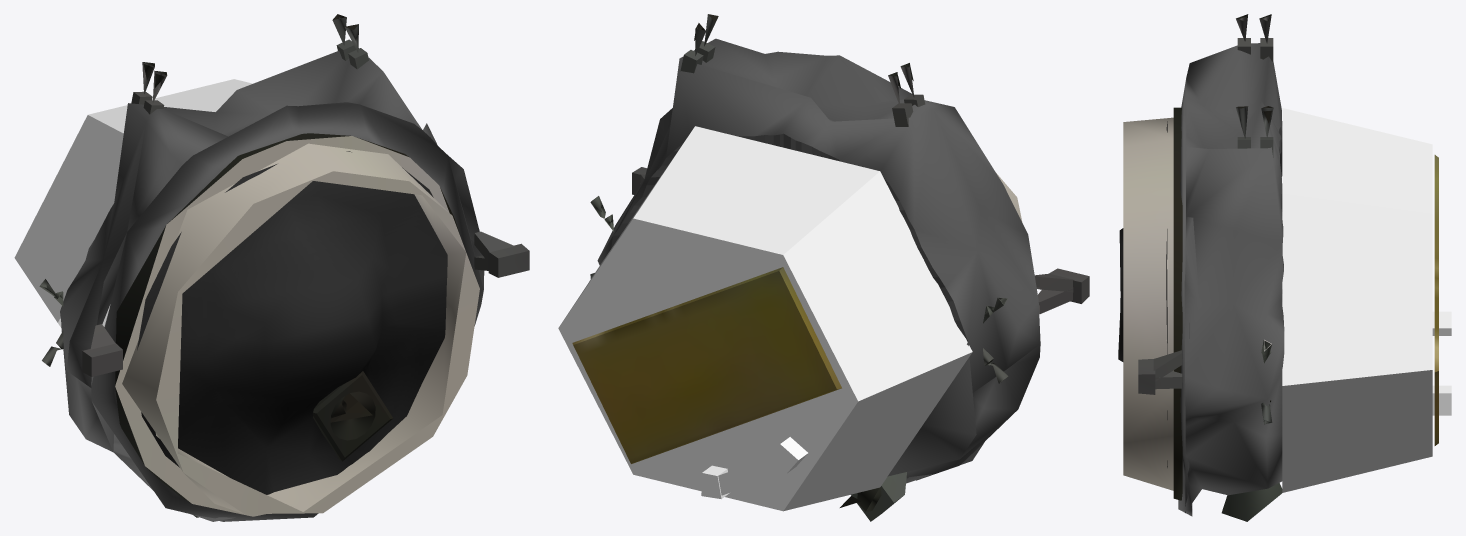
File: space-deep-impact.glb
The picture shows the model from 3 angles, left to right: view 1: azimuth 30°, elevation 25°; view 2: azimuth 150°, elevation 25°; view 3: azimuth 270°, elevation 25°; orthographic projection. The views are drawn at different scales.
Parts seen in each view (by area): view 1: foil_silver_I, tex_01_I, black_krinkle_I, aluminum_I; view 2: aluminum_I, black_krinkle_I, tex_01_I; view 3: aluminum_I, black_krinkle_I, tex_01_I, foil_silver_I.
Boxes of the visible parts, x1,y1,x2,y2 form: foil_silver_I: [137, 151, 447, 494]; tex_01_I: [39, 14, 529, 517]; black_krinkle_I: [60, 48, 484, 521]; aluminum_I: [14, 79, 252, 327]; aluminum_I: [558, 126, 972, 511]; black_krinkle_I: [597, 38, 1040, 483]; tex_01_I: [572, 14, 1089, 521]; aluminum_I: [1282, 108, 1451, 492]; black_krinkle_I: [1178, 43, 1284, 516]; tex_01_I: [1123, 14, 1438, 521]; foil_silver_I: [1118, 121, 1167, 467].
Bounding box in the file's own units: 1.25 × 1.25 × 0.847.
Materials: 4 (2 with a texture image).
